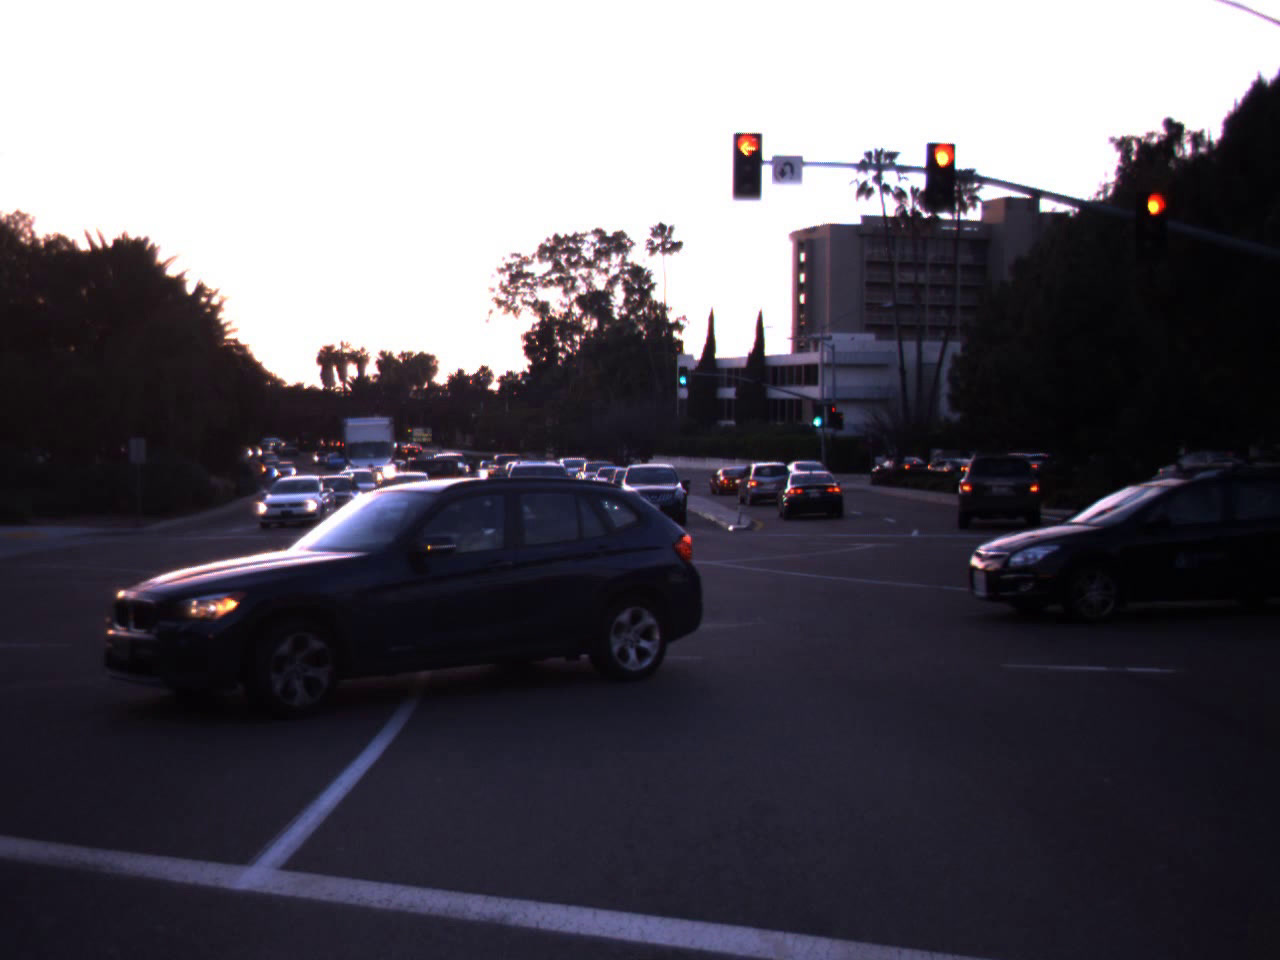go: (803, 384, 830, 429), (675, 359, 690, 384)
stop: (916, 133, 973, 227), (717, 127, 777, 212), (1132, 187, 1180, 268)
